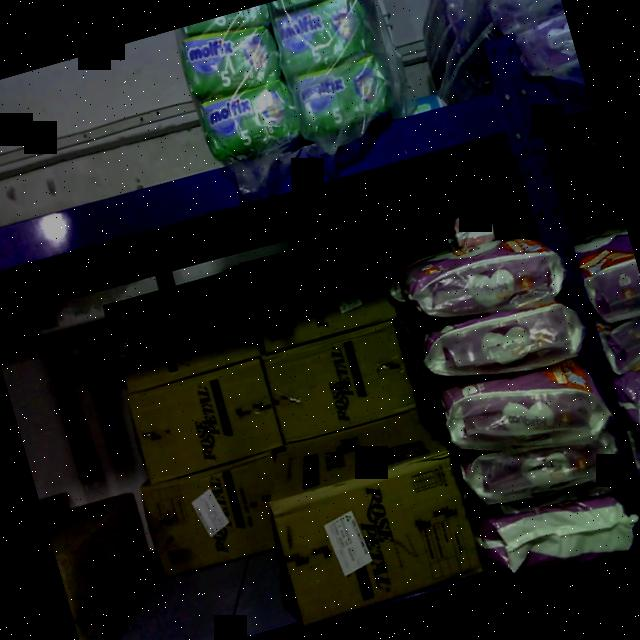box: (266, 447, 487, 628), (258, 312, 432, 446), (236, 221, 401, 355), (124, 353, 286, 487), (101, 263, 262, 394), (138, 452, 280, 578)
